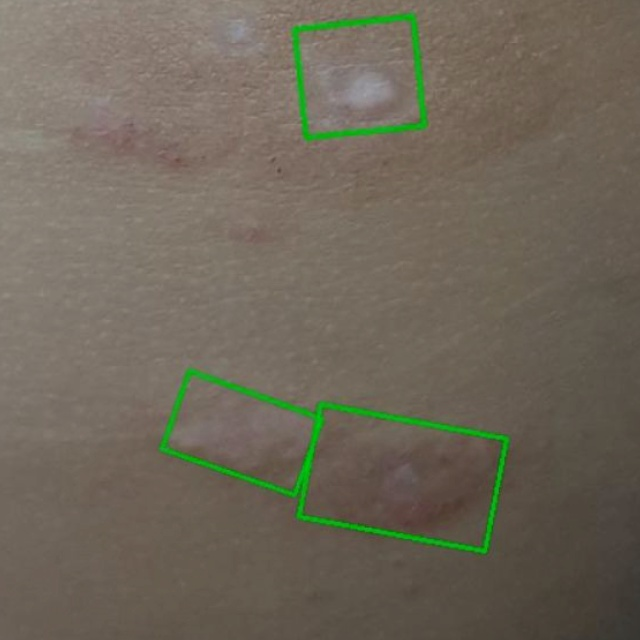Eczema: (299, 404, 506, 552), (162, 372, 322, 496), (295, 16, 424, 138)
